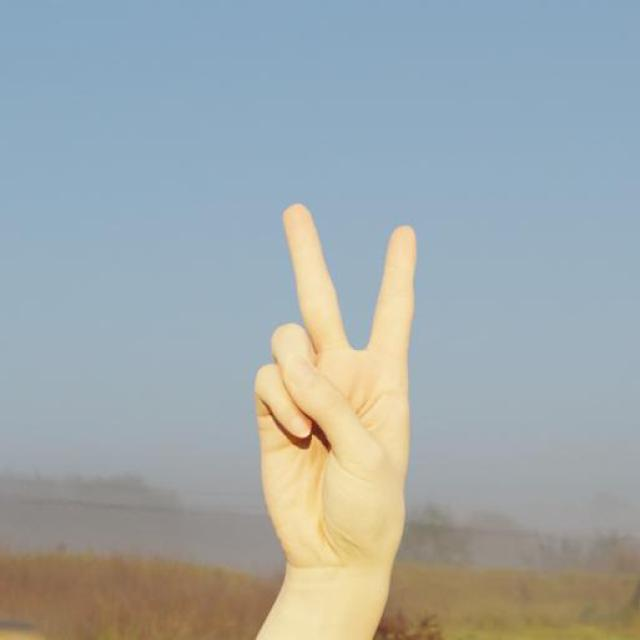V: (251, 202, 420, 576)
